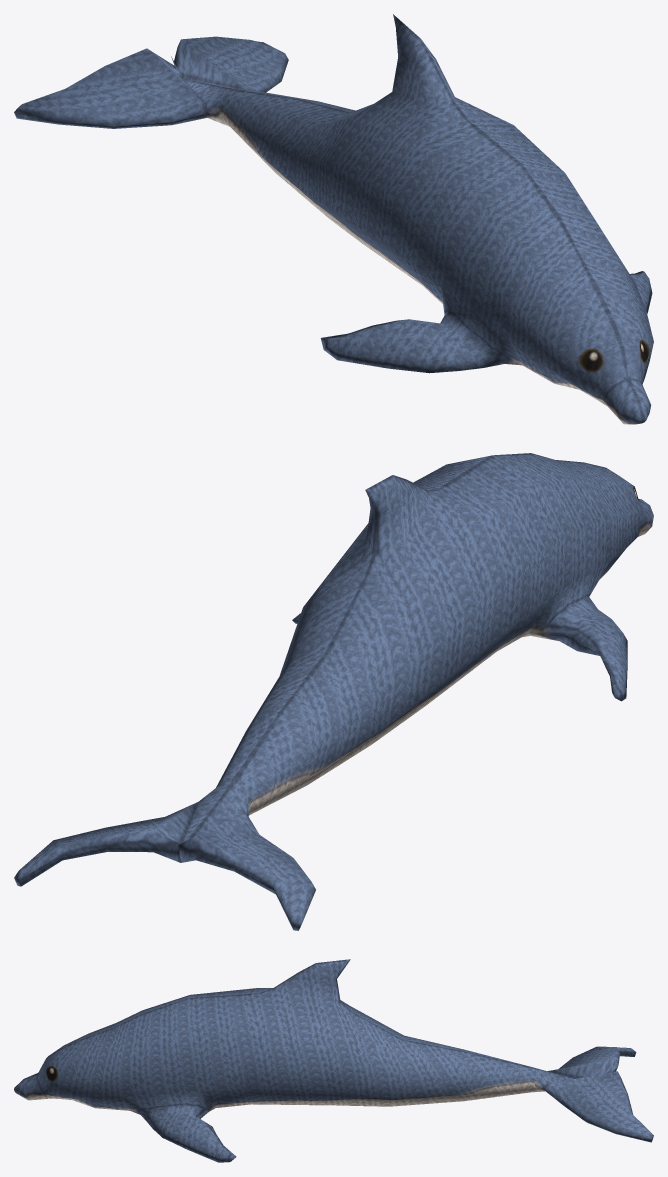
File: dolphinPlushie.fbx
3 views of the same model, one above another, from view 1: azimuth 30°, elevation 25°; view 2: azimuth 150°, elevation 25°; view 3: azimuth 270°, elevation 25° (orthographic). The views are drawn at different scales.
Visible parts, largest first — view 1: plushie dolphin; view 2: plushie dolphin; view 3: plushie dolphin.
Boxes of the visible parts, bbox=[...] form: plushie dolphin: bbox=[14, 14, 653, 424]; plushie dolphin: bbox=[14, 453, 653, 930]; plushie dolphin: bbox=[14, 959, 653, 1162].
Size of the model in its own units: 33.94 by 24.46 by 91.64.
Materials: 1 (1 with a texture image).
